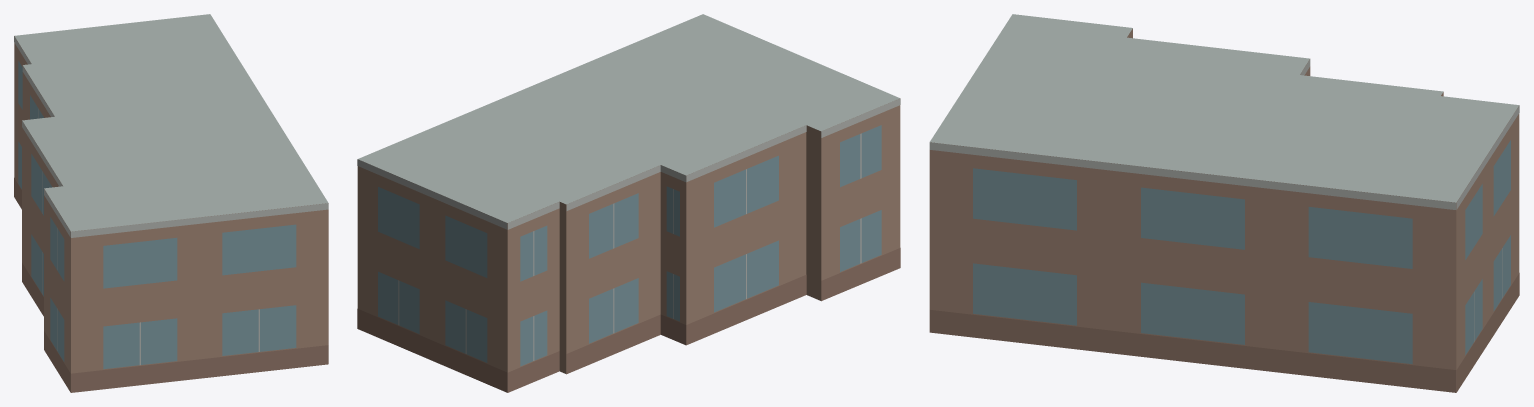
The model's file is survey-upis-32828604.glb.
3 views of the same model, side by side, from view 1: azimuth 30°, elevation 25°; view 2: azimuth 150°, elevation 25°; view 3: azimuth 270°, elevation 25° (orthographic). The views are drawn at different scales.
Visible parts, largest first — view 1: survey-upis-32828604.tmp; view 2: survey-upis-32828604.tmp; view 3: survey-upis-32828604.tmp.
Part boxes in pixels (bbox=[...]): survey-upis-32828604.tmp: bbox=[14, 14, 328, 392]; survey-upis-32828604.tmp: bbox=[357, 14, 900, 392]; survey-upis-32828604.tmp: bbox=[929, 14, 1519, 392].
Size of the model in its own units: 12.98 by 6.1 by 17.15.
